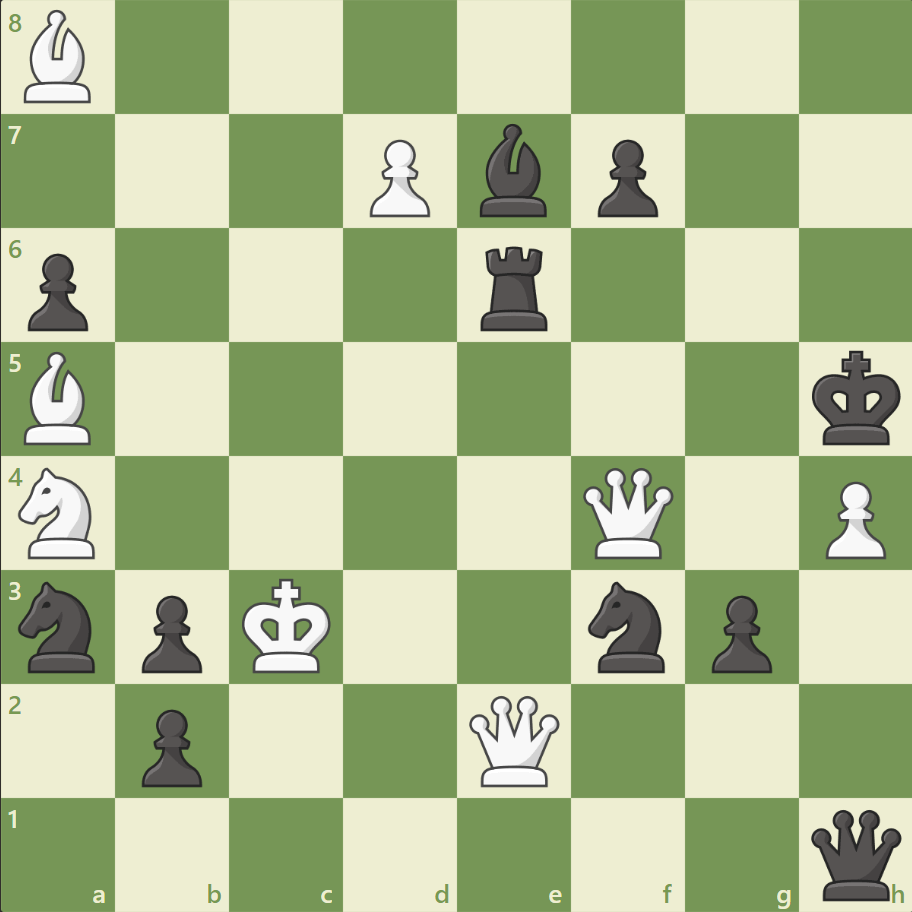B: (17, 6, 101, 109), (17, 347, 101, 449)
K: (238, 571, 338, 679)
N: (11, 461, 108, 564)
P: (361, 132, 435, 223), (815, 473, 889, 564)
Q: (578, 463, 677, 562), (464, 690, 563, 789)
b: (471, 120, 555, 222)
k: (806, 344, 906, 452)
n: (11, 575, 108, 677), (579, 575, 676, 677)
p: (20, 246, 95, 337), (133, 586, 208, 677), (701, 586, 776, 677), (133, 700, 208, 791), (588, 132, 662, 223)
q: (805, 804, 904, 903)
r: (473, 239, 556, 336)
